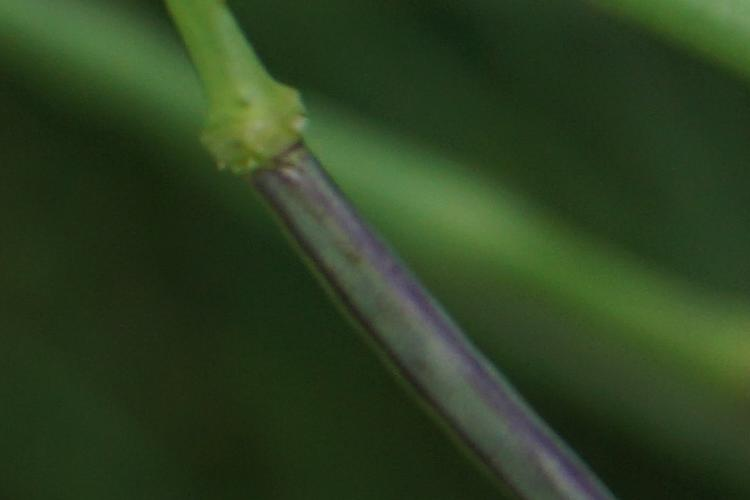pod: (182, 96, 636, 493)
